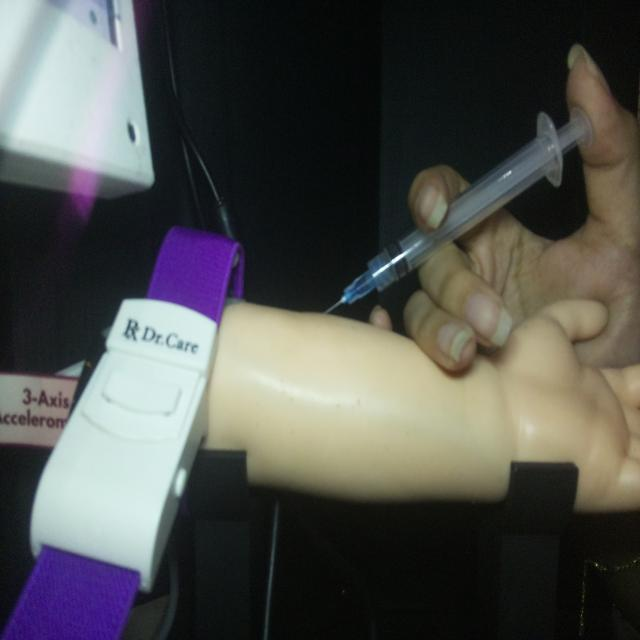27 degrees: (322, 102, 594, 317)
